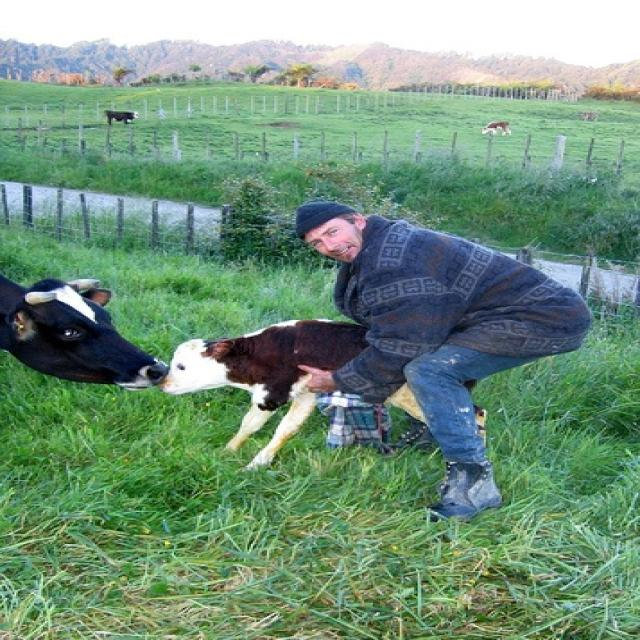cow: (161, 317, 488, 471), (2, 271, 167, 389), (482, 119, 516, 137), (104, 110, 142, 126)
